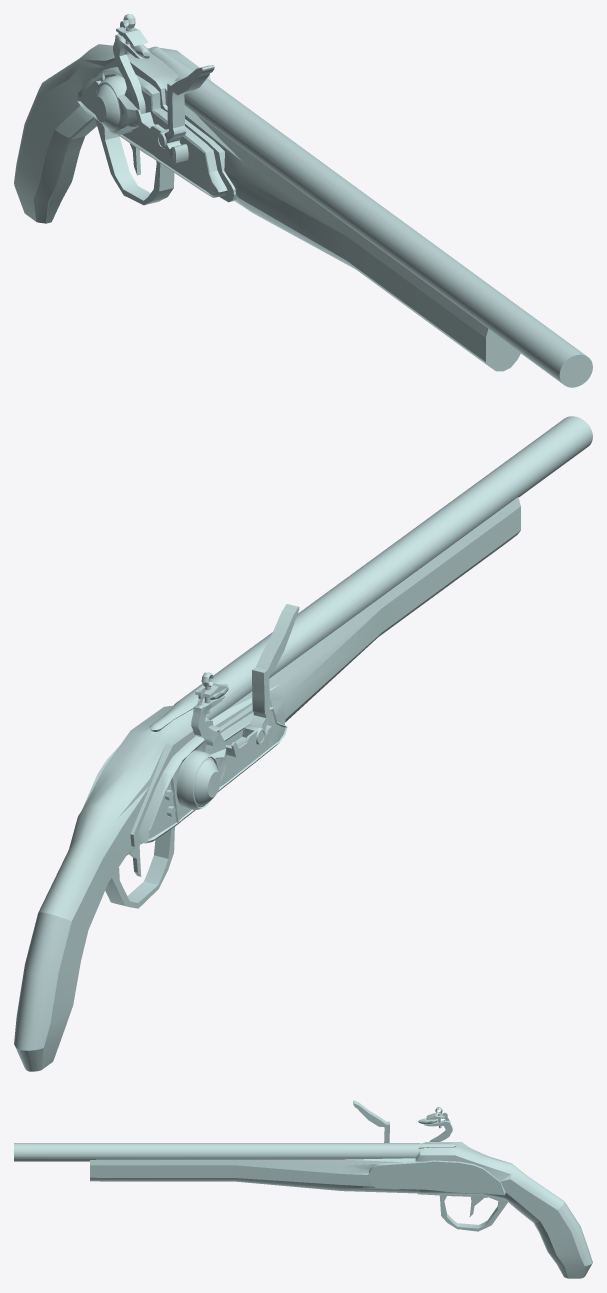
Rendered from musketPistol.obj.
The picture shows the model from 3 angles, top to bottom: view 1: azimuth 30°, elevation 25°; view 2: azimuth 150°, elevation 25°; view 3: azimuth 270°, elevation 25°; orthographic projection. The views are drawn at different scales.
Visible parts, largest first — view 1: musketPistol.002; view 2: musketPistol.002; view 3: musketPistol.002.
Boxes of the visible parts, box(x1,y1,x2,y2) form: musketPistol.002: box(14, 14, 592, 387); musketPistol.002: box(14, 416, 592, 1071); musketPistol.002: box(14, 1100, 592, 1278).
Bounding box in the file's own units: 0.1021 × 0.3576 × 1.15.
1 material, 1 textured.
